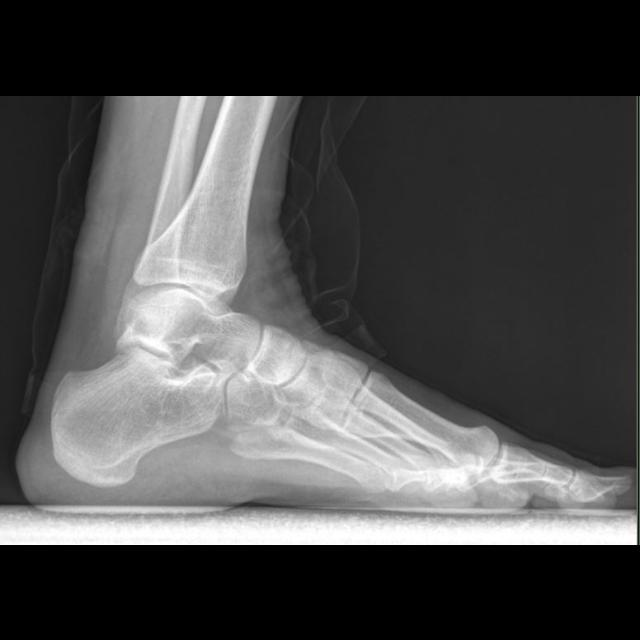a: (51, 347, 225, 483)
b: (245, 327, 305, 384)
c: (342, 371, 499, 473)
